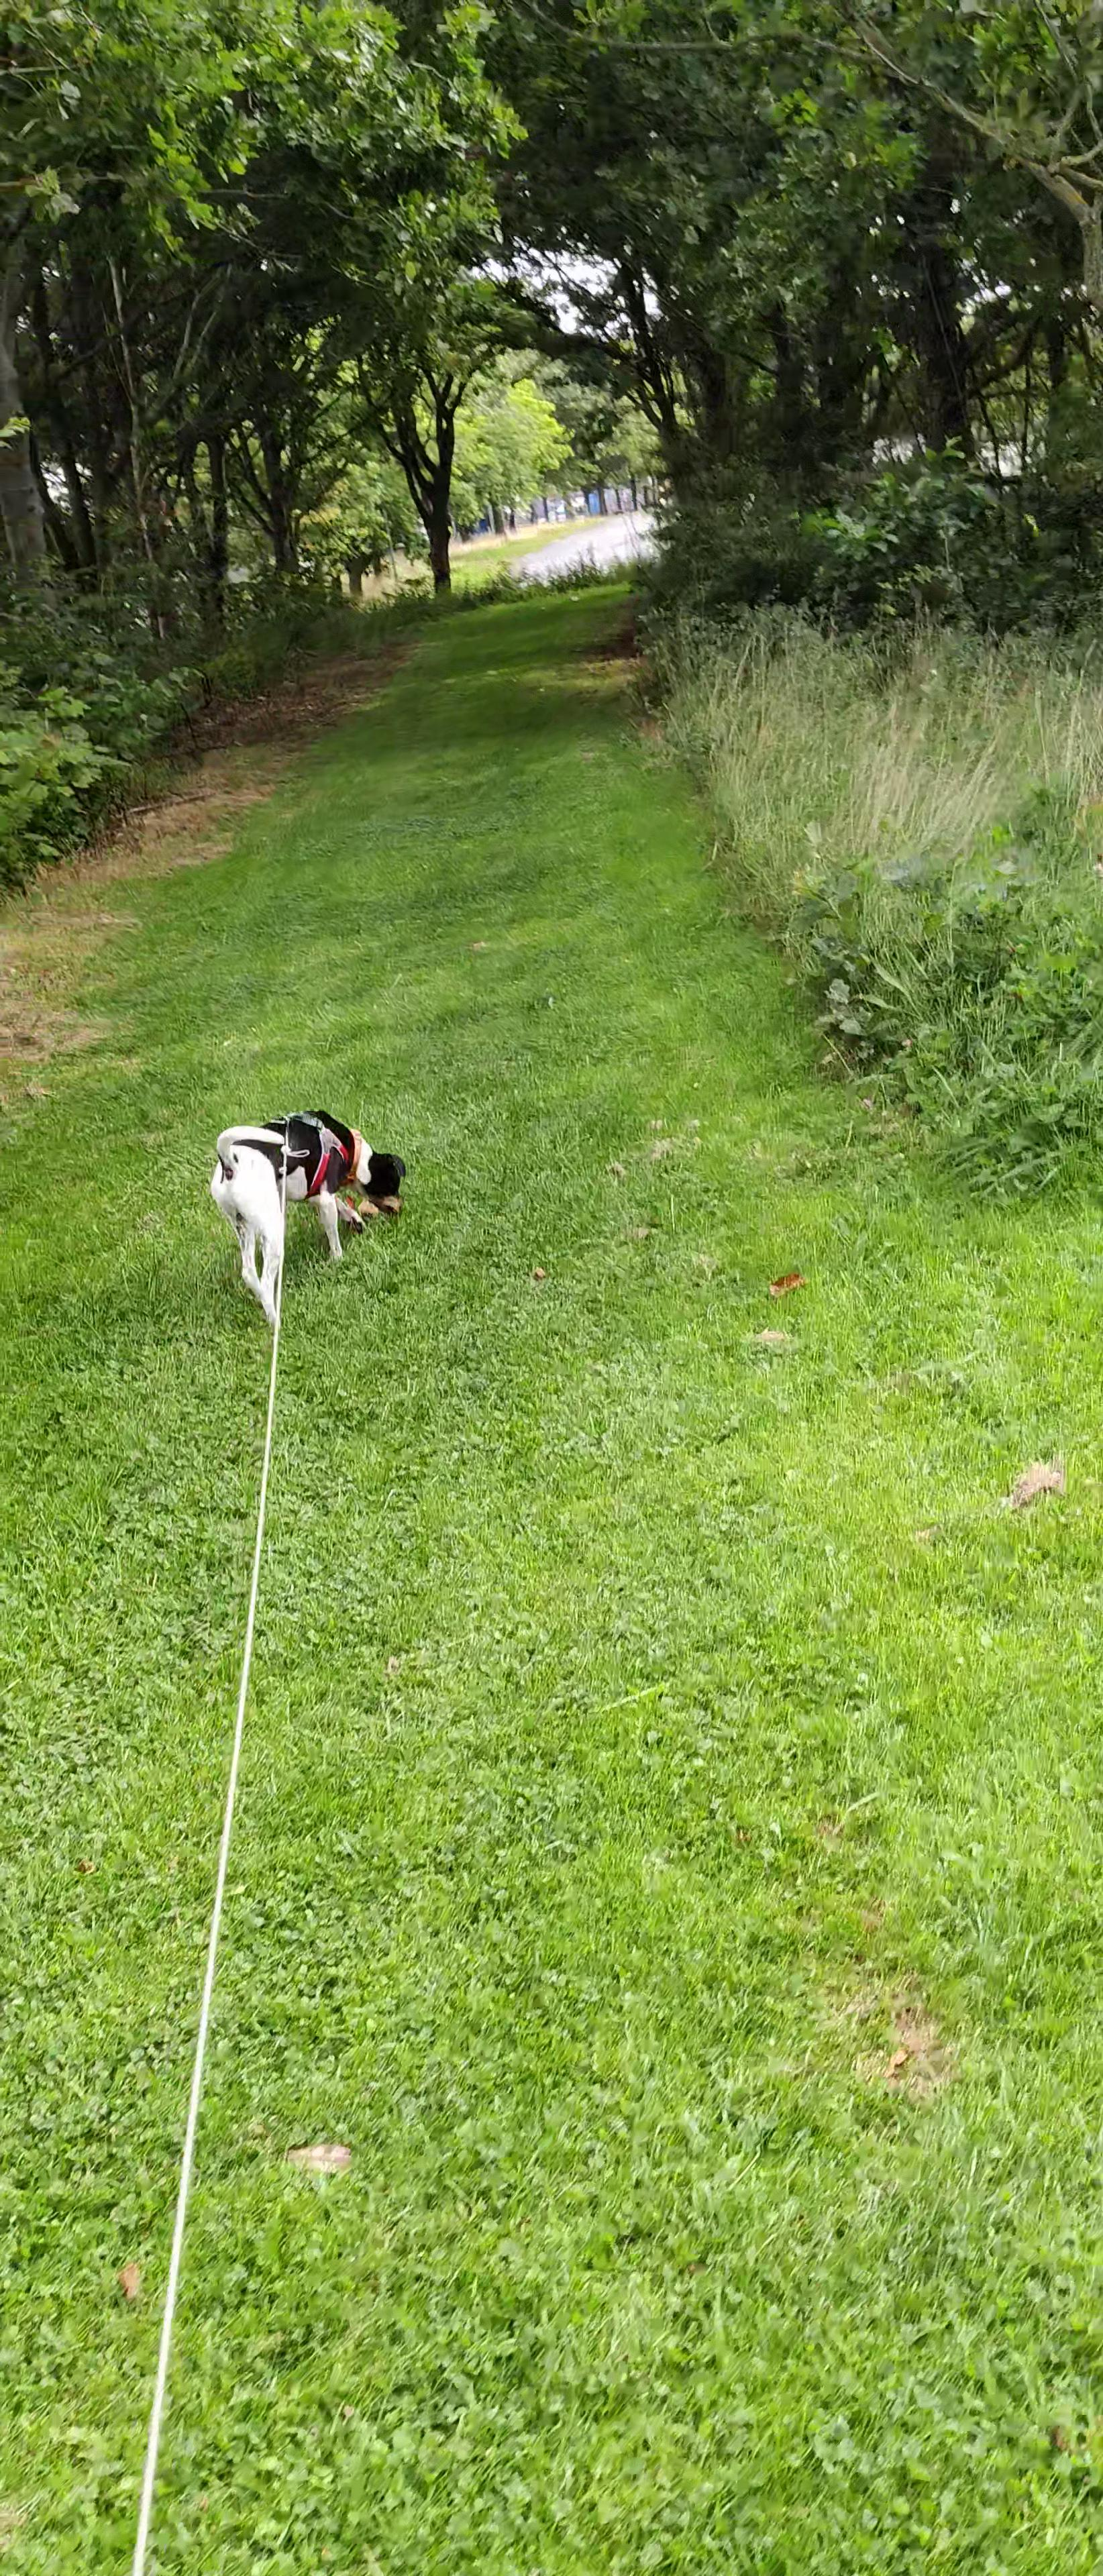Dog: (194, 1091, 421, 1334)
